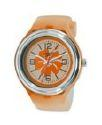watch: (14, 15, 87, 113)
